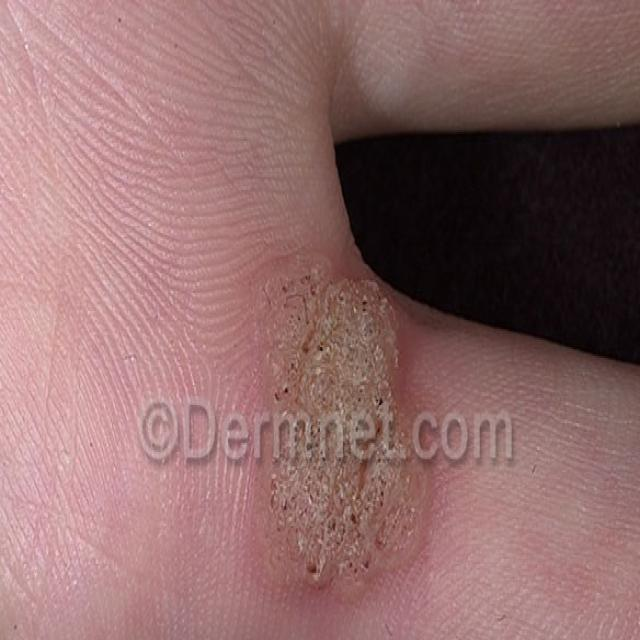Warts: (258, 260, 446, 634)
